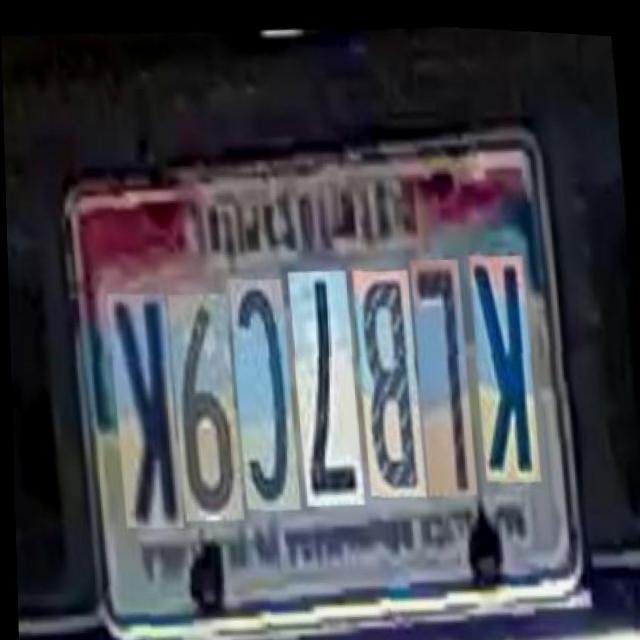7: (292, 263, 366, 503)
9: (170, 285, 244, 518)
b: (356, 261, 427, 491)
c: (232, 270, 301, 507)
k: (111, 285, 183, 525), (471, 244, 542, 477)
l: (414, 250, 478, 491)
